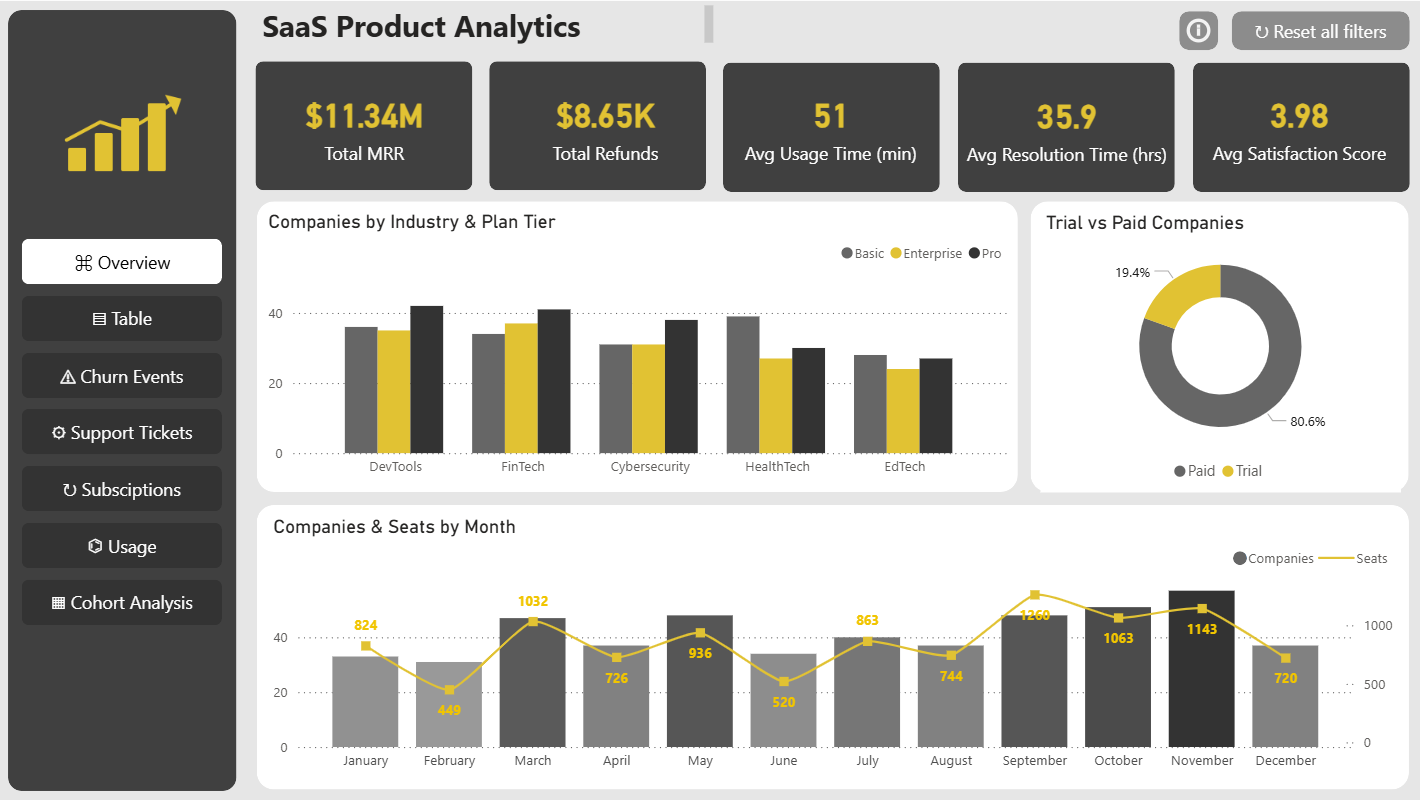

The dashboard page shown, as its layout file describes it:
{"tool":"powerbi","page":{"name":" ⌘ Overview","canvas":[1280,720],"ordinal":0},"visuals":[{"type":"image","box":[0,0,1278.3,720],"z":0},{"type":"shape","box":[0,0,223.3,720],"z":1000},{"type":"shape","box":[854.3,47.1,212.9,134.3],"z":2000},{"type":"shape","box":[642.9,47.1,212.9,134.3],"z":3000},{"type":"shape","box":[232.9,181.4,684.3,261.4],"z":4000},{"type":"shape","box":[1065.7,47.1,212.9,134.3],"z":5000},{"type":"shape","box":[928.6,181.4,340,261.4],"z":6000},{"type":"shape","box":[232.9,454.3,1035.7,255.7],"z":7000},{"type":"shape","box":[222.9,45.7,213,134],"z":8000},{"type":"shape","box":[432.9,45.7,212.9,134],"z":9000},{"type":"clusteredColumnChart","title":"Companies by Industry & Plan Tier","fields":{"Category":["public accounts.industry"],"Y":["CountNonNull(public accounts.account_id)"],"Series":["public accounts.plan_tier"]},"box":[238.8,188.8,673.8,248.8],"z":10000},{"type":"donutChart","title":"Trial vs Paid Companies","fields":{"Category":["public accounts.is_trial"],"Y":["CountNonNull(public accounts.account_id)"]},"box":[937.5,190,323.8,252.5],"z":11000},{"type":"pageNavigator","box":[21.2,215,180,350],"z":12000},{"type":"textbox","box":[232.9,0,415.7,44.3],"z":13000},{"type":"actionButton","box":[1062,10,35,35],"z":14000},{"type":"actionButton","title":"d","box":[1108.8,10,160,35],"z":15000},{"type":"image","box":[0,74.3,238,110],"z":16000},{"type":"lineStackedColumnComboChart","title":"Companies & Seats by Month","fields":{"Category":["date.signup_date.Variation.Date Hierarchy.Year","date.signup_date.Variation.Date Hierarchy.Quarter","date.signup_date.Variation.Date Hierarchy.Month","date.signup_date.Variation.Date Hierarchy.Day"],"Y2":["Sum(public accounts.seats)"],"Y":["CountNonNull(public accounts.account_id)"]},"box":[242.5,462.5,1016.2,238.8],"z":17000},{"type":"shape","title":"Special image","box":[1110,495,12.5,12.5],"z":18000},{"type":"card","fields":{"Values":["Sum(public subscriptions.mrr_amount)"]},"box":[220,54.3,218.6,118.6],"z":19000},{"type":"card","fields":{"Values":["Sum(public churn_events.refund_amount_usd)"]},"box":[443.8,51.2,205,122.5],"z":20000},{"type":"card","fields":{"Values":["public feature_usage.Avg Usage time(min)"]},"box":[645,52.5,207.5,120],"z":21000},{"type":"card","fields":{"Values":["Avg(public support_tickets.resolution_time_hours)"]},"box":[858.8,52.5,205,122.5],"z":22000},{"type":"card","fields":{"Values":["Avg(public support_tickets.satisfaction_score)"]},"box":[1066.2,53.8,207.5,118.8],"z":23000}]}

Visuals, with their boxes in screenshot pixels (x1, y1, x2, y2), scaled from the page's 1280x720 canvas onto the 1420x800 screenshot:
image: 0, 0, 1418, 799
shape: 0, 0, 248, 799
shape: 948, 52, 1184, 202
shape: 713, 52, 949, 202
shape: 258, 202, 1018, 492
shape: 1182, 52, 1418, 202
shape: 1030, 202, 1407, 492
shape: 258, 505, 1407, 789
shape: 247, 51, 484, 200
shape: 480, 51, 716, 200
"Companies by Industry & Plan Tier" clusteredColumnChart: 265, 210, 1012, 486
"Trial vs Paid Companies" donutChart: 1040, 211, 1399, 492
pageNavigator: 24, 239, 223, 628
textbox: 258, 0, 720, 49
actionButton: 1178, 11, 1217, 50
"d" actionButton: 1230, 11, 1408, 50
image: 0, 83, 264, 205
"Companies & Seats by Month" lineStackedColumnComboChart: 269, 514, 1396, 779
"Special image" shape: 1231, 550, 1245, 564
card - Sum(public subscriptions.mrr_amount): 244, 60, 487, 192
card - Sum(public churn_events.refund_amount_usd): 492, 57, 720, 193
card - public feature_usage.Avg Usage time(min): 716, 58, 946, 192
card - Avg(public support_tickets.resolution_time_hours): 953, 58, 1180, 194
card - Avg(public support_tickets.satisfaction_score): 1183, 60, 1413, 192
